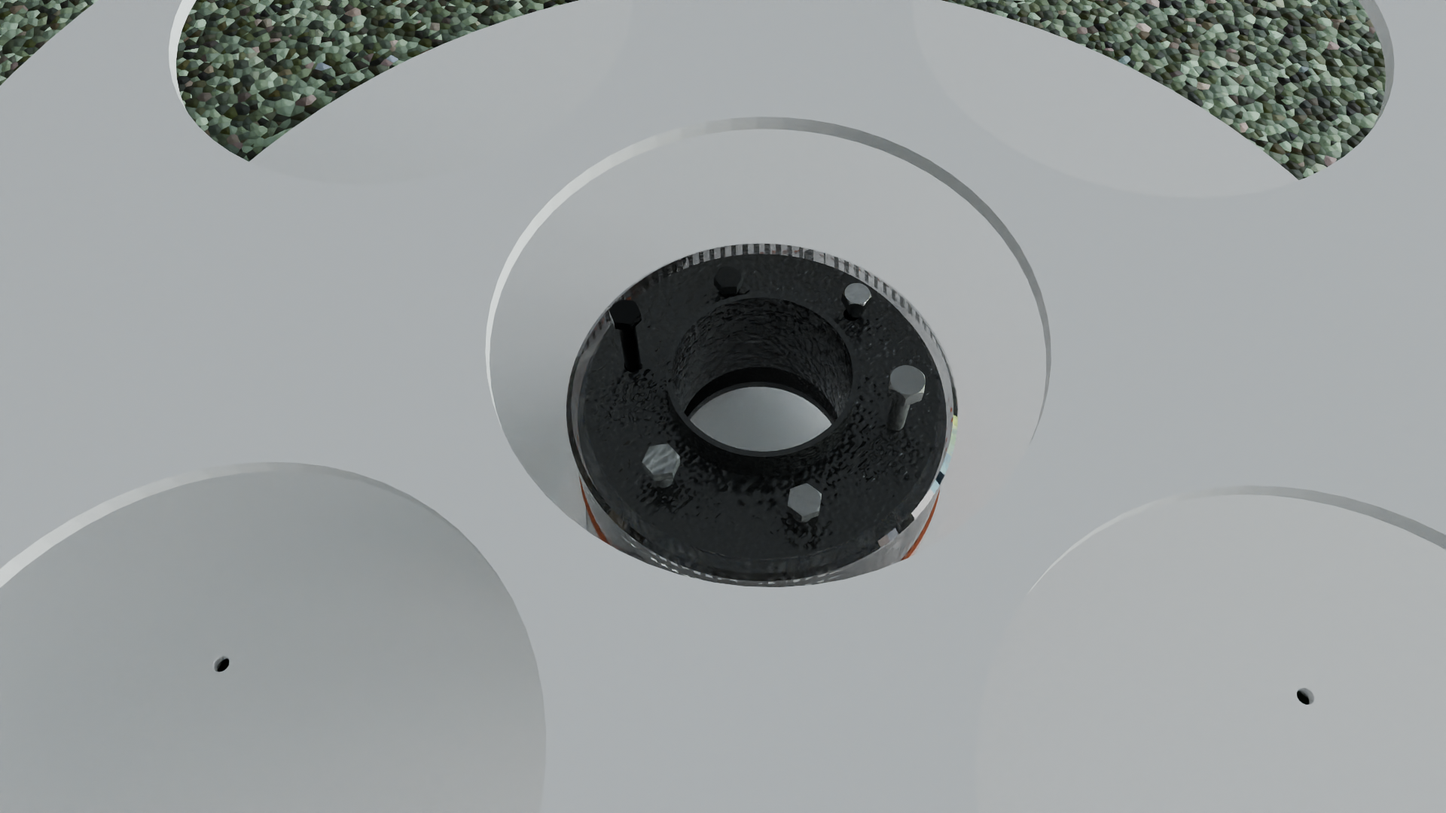bolt: (889, 365, 925, 399), (642, 444, 680, 475), (788, 483, 822, 516), (609, 300, 641, 324), (843, 283, 871, 306), (714, 266, 743, 288)
